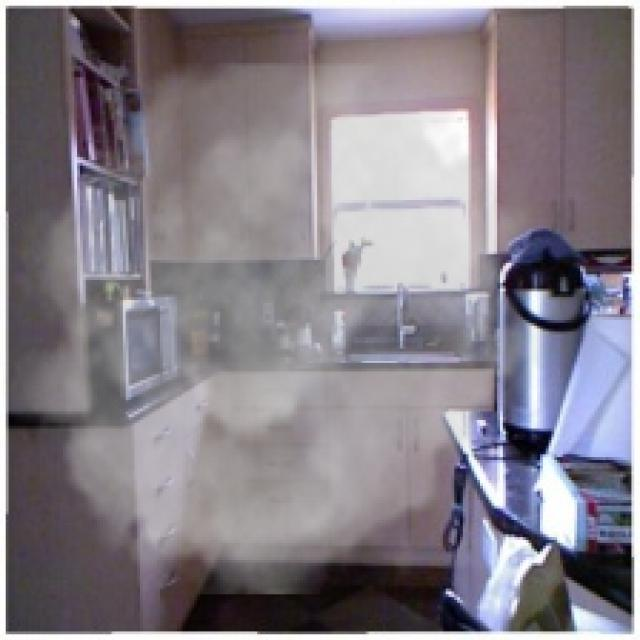Smoke: (2, 62, 552, 594)
